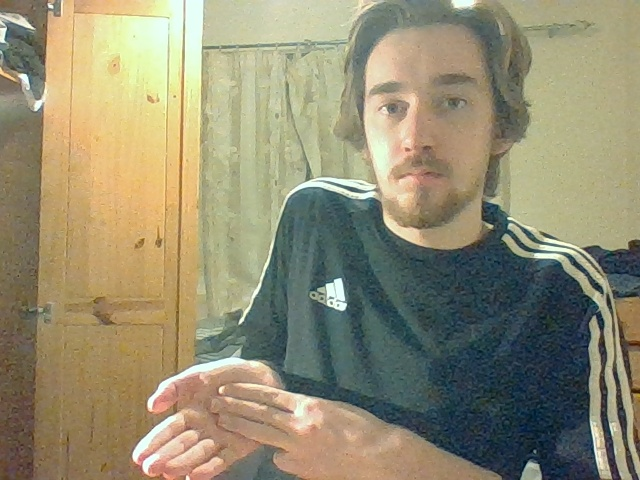mother: (132, 358, 291, 480)
